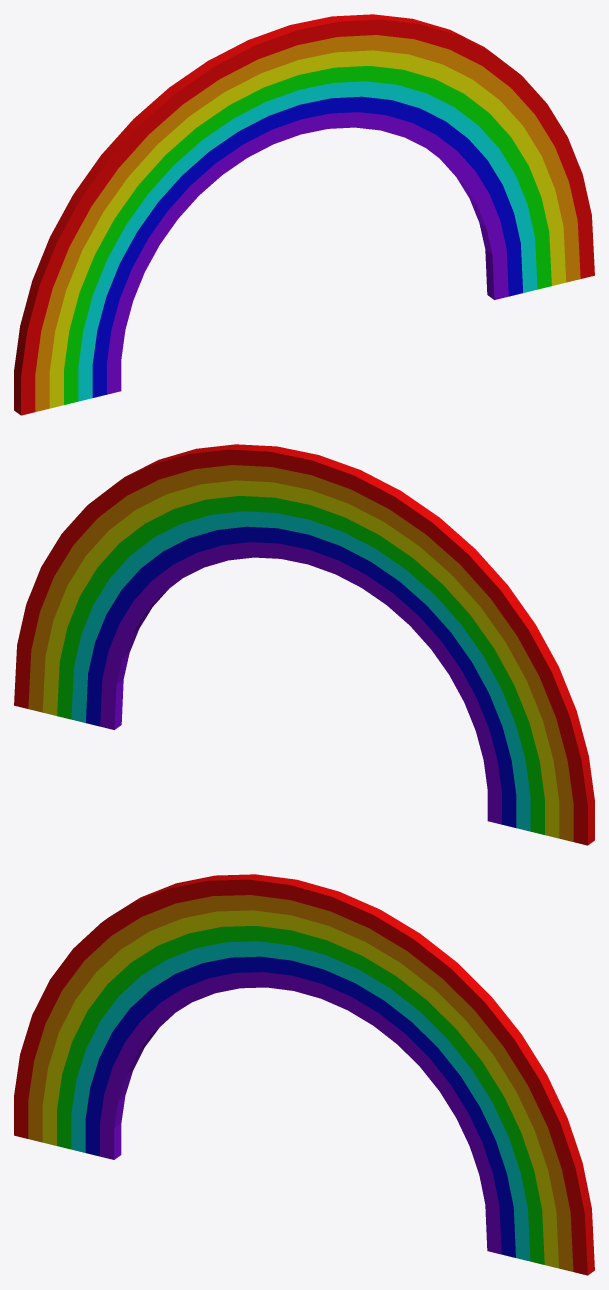
Rendered from rainbow.fbx.
The picture shows the model from 3 angles, top to bottom: view 1: azimuth 30°, elevation 25°; view 2: azimuth 150°, elevation 25°; view 3: azimuth 330°, elevation 25°; orthographic projection.
Parts seen in each view (by area): view 1: pPipe1; view 2: pPipe1; view 3: pPipe1.
Part boxes in pixels (left/top/right/bottom): pPipe1: left=14, top=14, right=594, bottom=415; pPipe1: left=14, top=444, right=594, bottom=845; pPipe1: left=14, top=874, right=594, bottom=1275.
Size of the model in its own units: 113 by 59.78 by 2.43.
